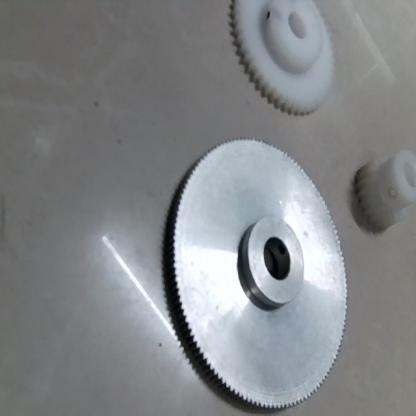FOD: (161, 118, 353, 415), (217, 0, 345, 113), (358, 138, 416, 242)
